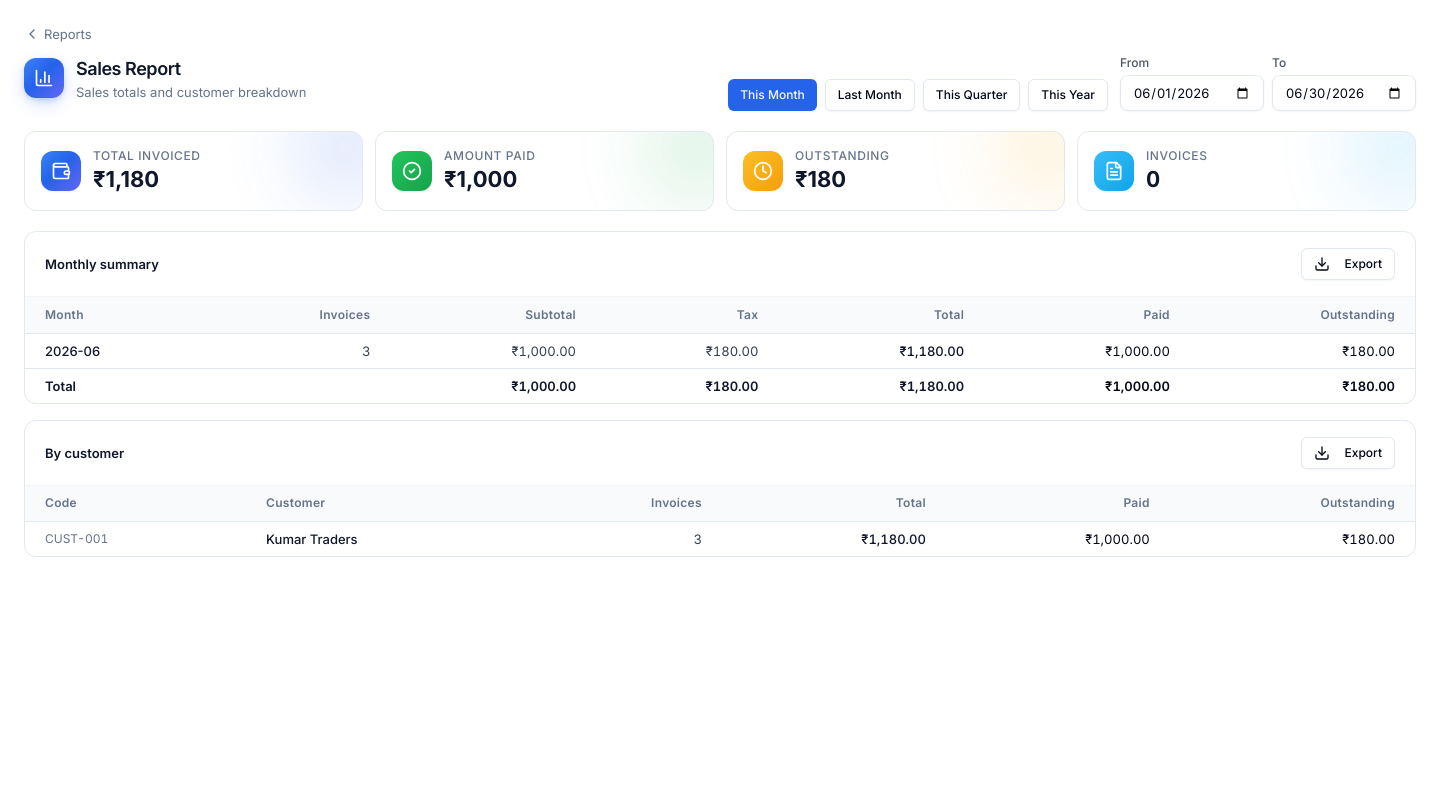
Scenario: SalesReportView › surfaces an error when the refetch fails
Click the button "Last Month". click: (870, 95)
box: [825,79,915,111]
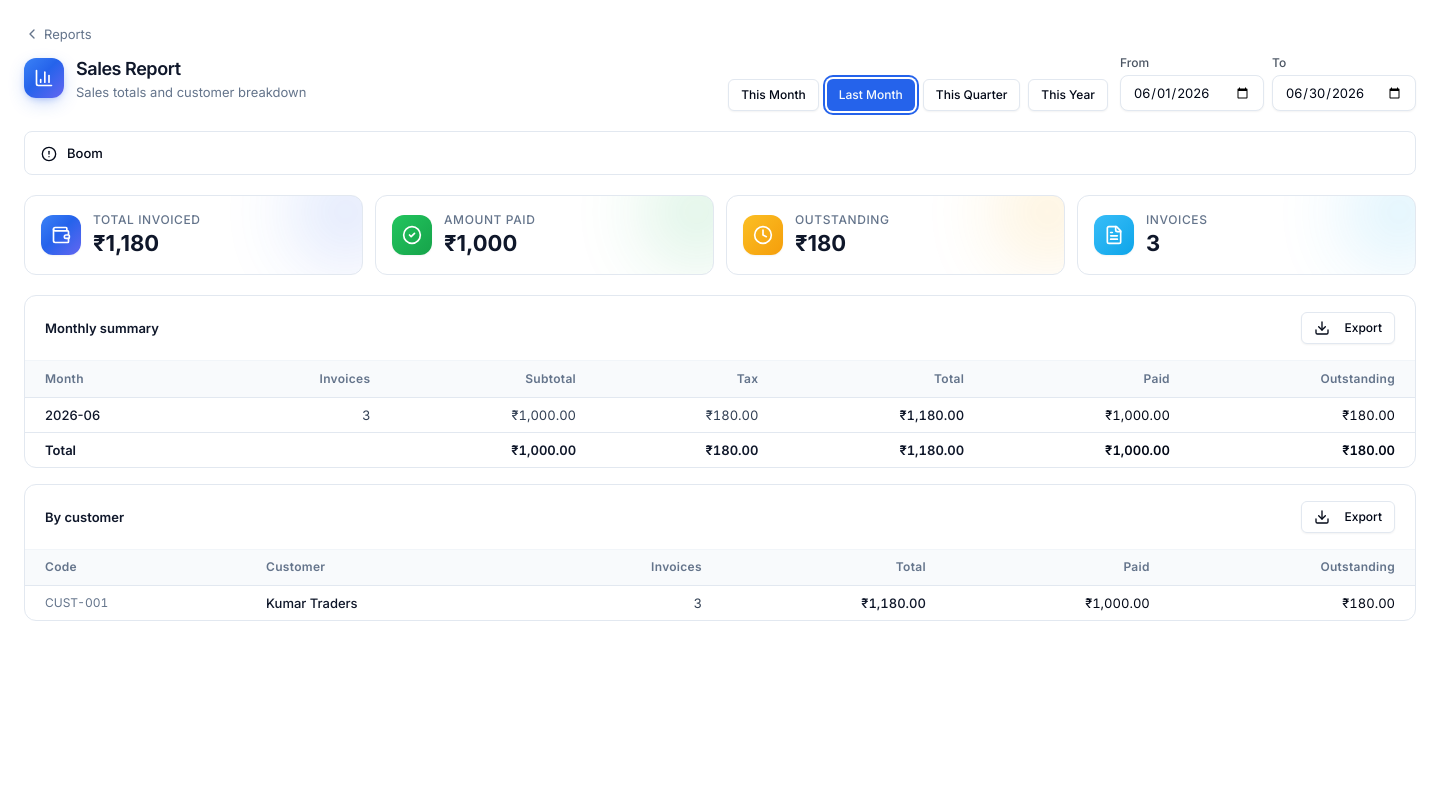
Expected: the message reads "Boom", [67,145,103,161]
